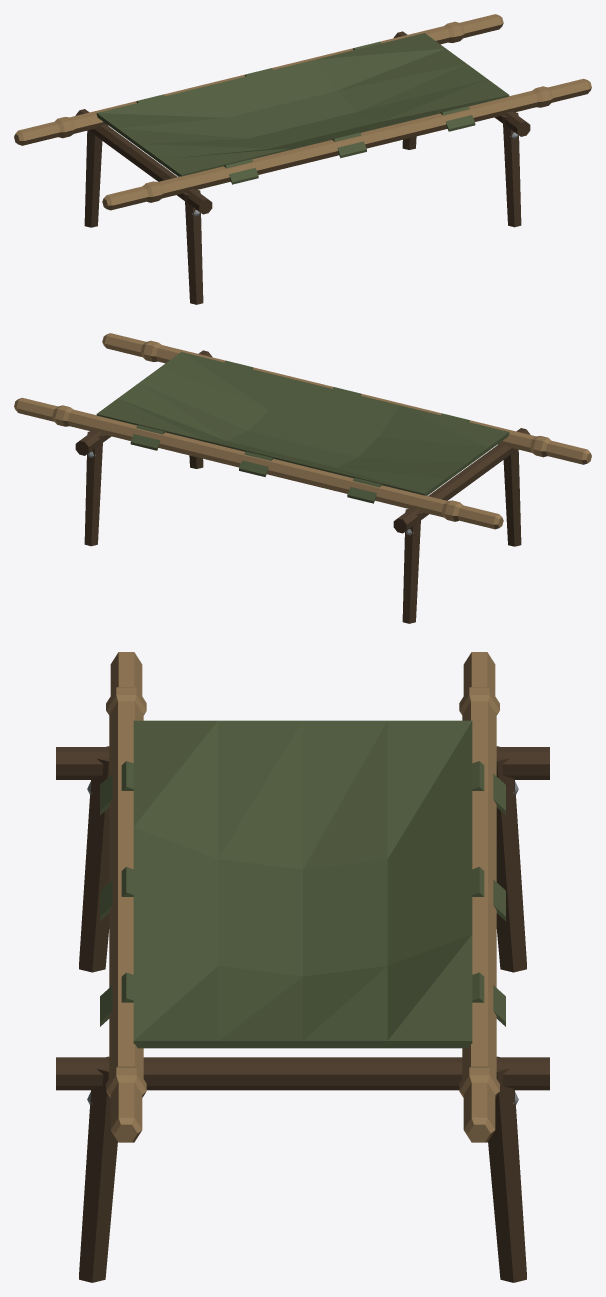
The model's file is casualty-stretcher-965771.glb.
The picture shows the model from 3 angles, top to bottom: view 1: azimuth 30°, elevation 25°; view 2: azimuth 150°, elevation 25°; view 3: azimuth 270°, elevation 25°; orthographic projection. The views are drawn at different scales.
Visible parts, largest first — view 1: canvas, frame, leg-foot-l-mesh, leg-head-l-mesh, leg-foot-r-mesh; view 2: canvas, frame, leg-foot-r-mesh, leg-head-r-mesh, leg-foot-l-mesh; view 3: canvas, frame, leg-head-l-mesh, leg-head-r-mesh, leg-foot-l-mesh, leg-foot-r-mesh.
Part boxes in pixels (x1,y1,x2,y2): canvas: [96, 33, 509, 184]; frame: [14, 14, 591, 214]; leg-foot-l-mesh: [184, 189, 203, 304]; leg-head-l-mesh: [502, 112, 521, 227]; leg-foot-r-mesh: [84, 130, 102, 227]; canvas: [96, 352, 509, 503]; frame: [14, 333, 591, 533]; leg-foot-r-mesh: [402, 508, 421, 623]; leg-head-r-mesh: [84, 431, 103, 546]; leg-foot-l-mesh: [503, 449, 521, 546]; canvas: [100, 720, 505, 1048]; frame: [56, 652, 549, 1142]; leg-head-l-mesh: [79, 1056, 117, 1282]; leg-head-r-mesh: [488, 1056, 526, 1282]; leg-foot-l-mesh: [79, 746, 109, 972]; leg-foot-r-mesh: [496, 746, 526, 972].
Bounding box in the file's own units: 1.9 × 0.4531 × 0.84.
